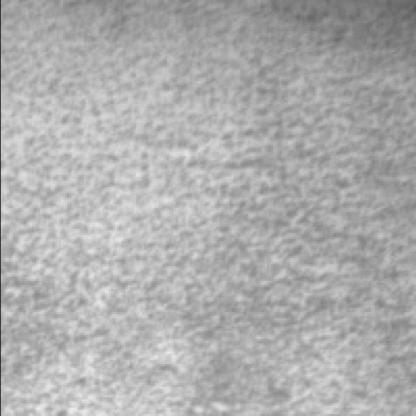pitted_surface: (10, 13, 416, 406)
